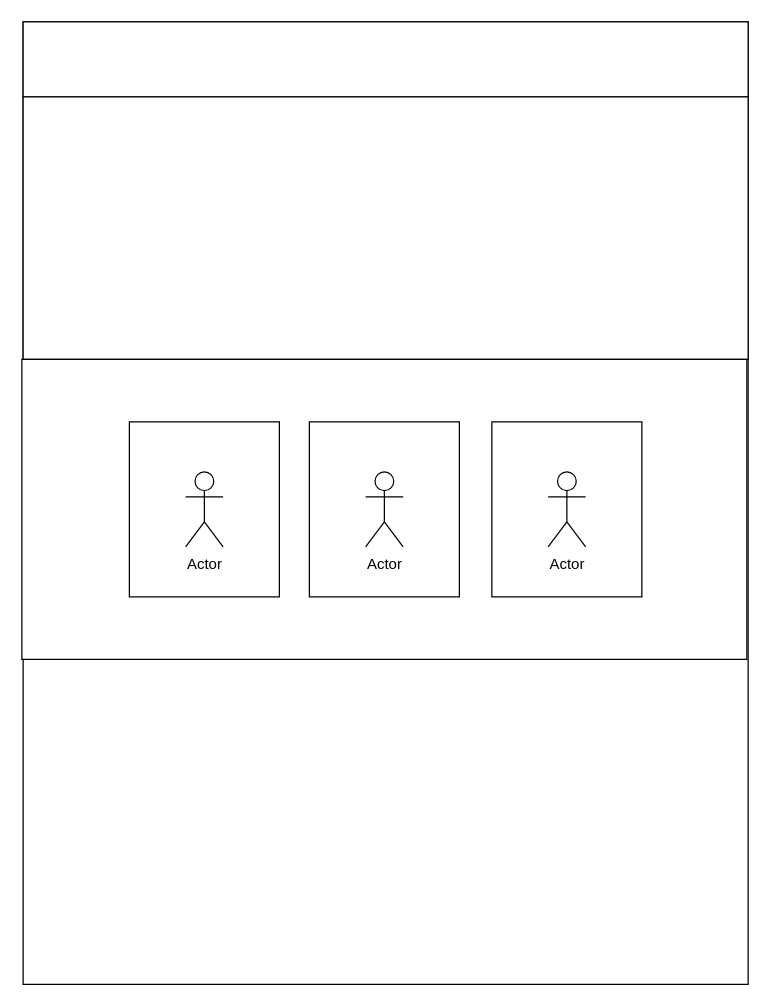
The diagram is 770 pixels wide and 1006 high, and some of its shapes have lost their labels. Here are the shapes that lost their labels. From the top down, the box of each, then its label:
(22, 21, 748, 97): NAVBAR
(22, 96, 748, 359): BIENVENIDA
